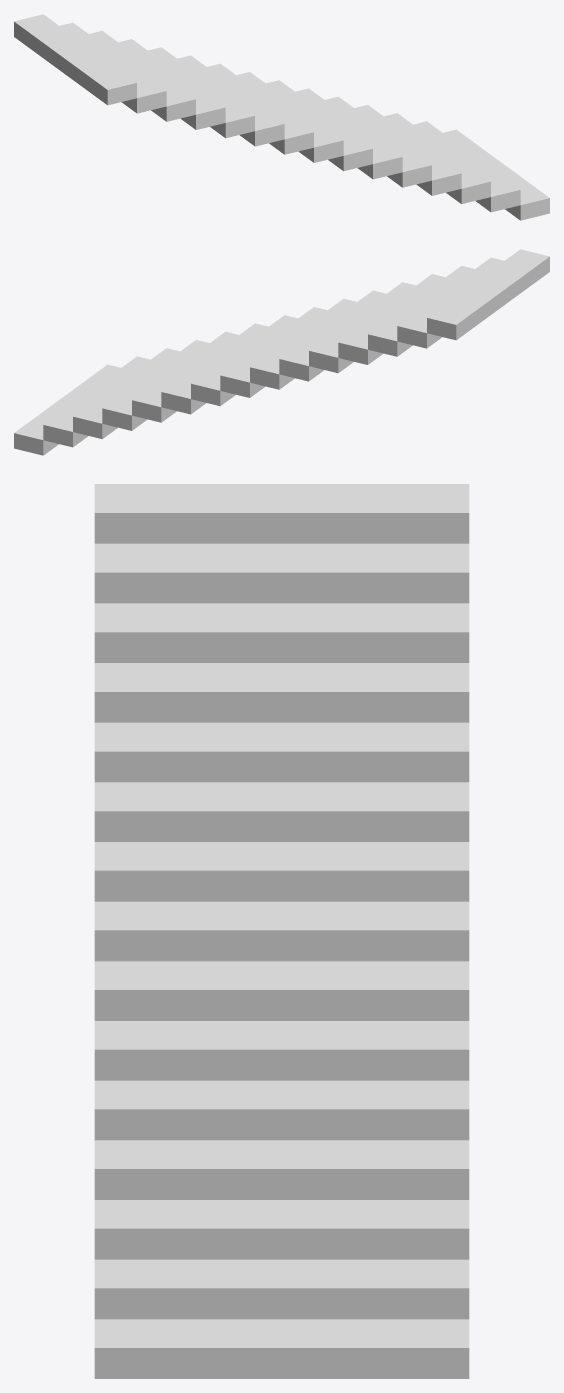
Rendered from ramp.obj.
The picture shows the model from 3 angles, top to bottom: view 1: azimuth 30°, elevation 25°; view 2: azimuth 150°, elevation 25°; view 3: azimuth 270°, elevation 25°; orthographic projection. The views are drawn at different scales.
Bounding box in the file's own units: 3 × 1.5 × 1.1.
1 material, 1 textured.
